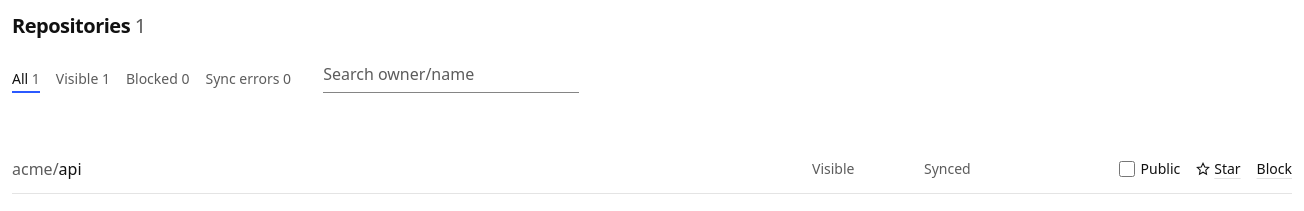
Test: RepoAccessManager public access › turns a repository public and announces it
Click the switch named "Public access for acme/api" at (1126, 169), box [1118,161,1134,177]
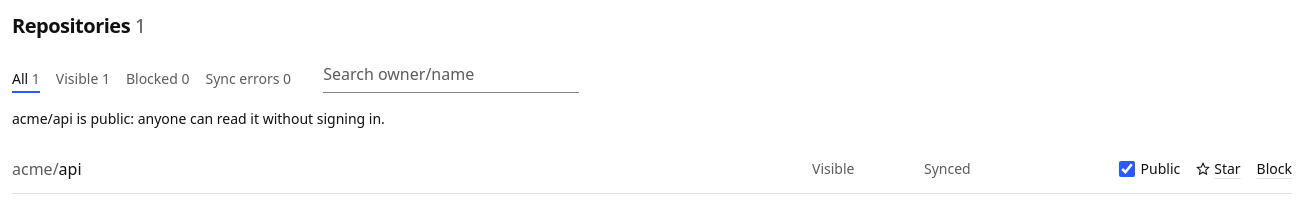
Expected: the text "acme/api is public: anyone can read it without signing in." is shown, [12,109,385,128]
